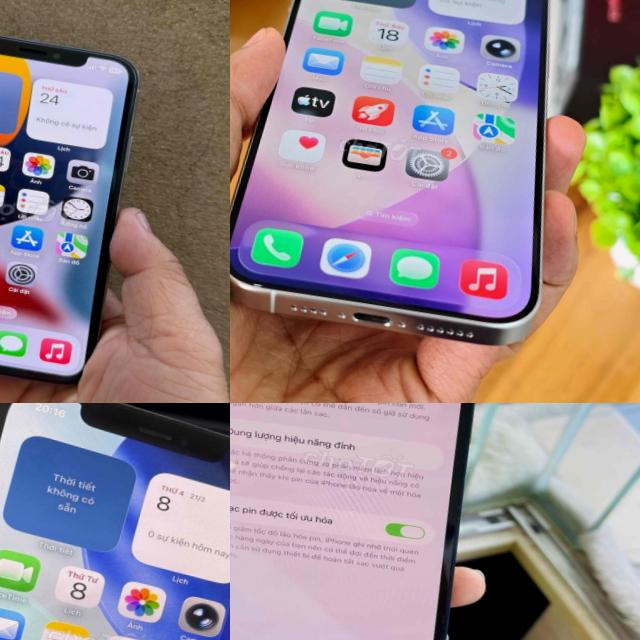gen_12_13: (230, 403, 526, 640), (0, 403, 230, 640)
gen_15: (230, 0, 604, 365)
gen_x_xs: (0, 19, 151, 391)
